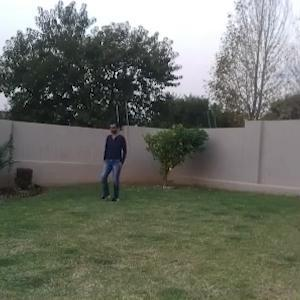follow: (99, 119, 126, 204)
